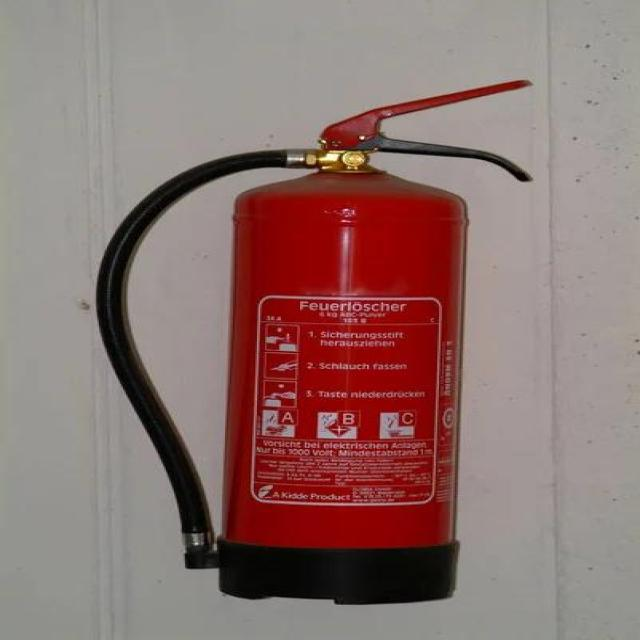fire_extinguisher: (82, 77, 539, 608)
